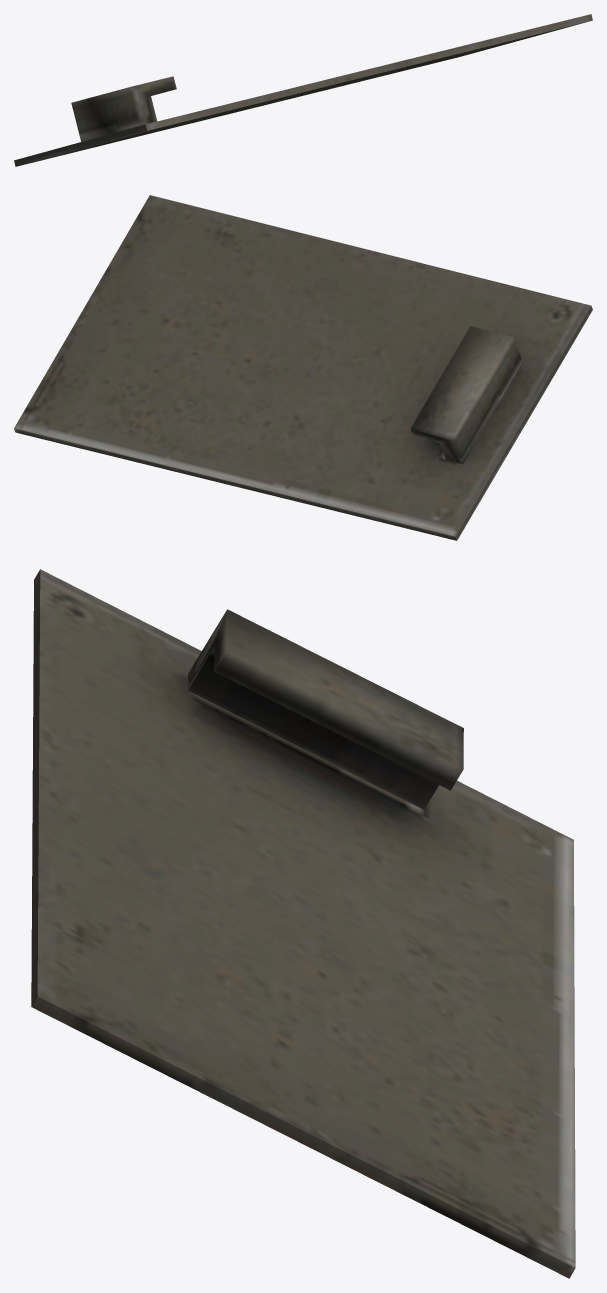
The model's file is power_generator_flesher_hatch.DAE.
The picture shows the model from 3 angles, top to bottom: view 1: azimuth 30°, elevation 25°; view 2: azimuth 150°, elevation 25°; view 3: azimuth 270°, elevation 25°; orthographic projection. The views are drawn at different scales.
Visible parts, largest first — view 1: power_generator_flesher_hatch; view 2: power_generator_flesher_hatch; view 3: power_generator_flesher_hatch.
Part boxes in pixels (left/top/right/bottom): power_generator_flesher_hatch: left=14, top=14, right=592, bottom=166; power_generator_flesher_hatch: left=14, top=195, right=592, bottom=540; power_generator_flesher_hatch: left=31, top=569, right=575, bottom=1278.
Size of the model in its own units: 32.96 by 17.51 by 10.06.
